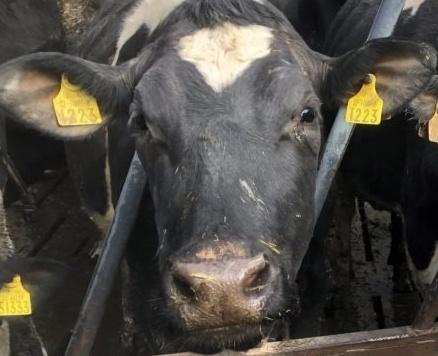muzzles: (156, 248, 297, 350)
